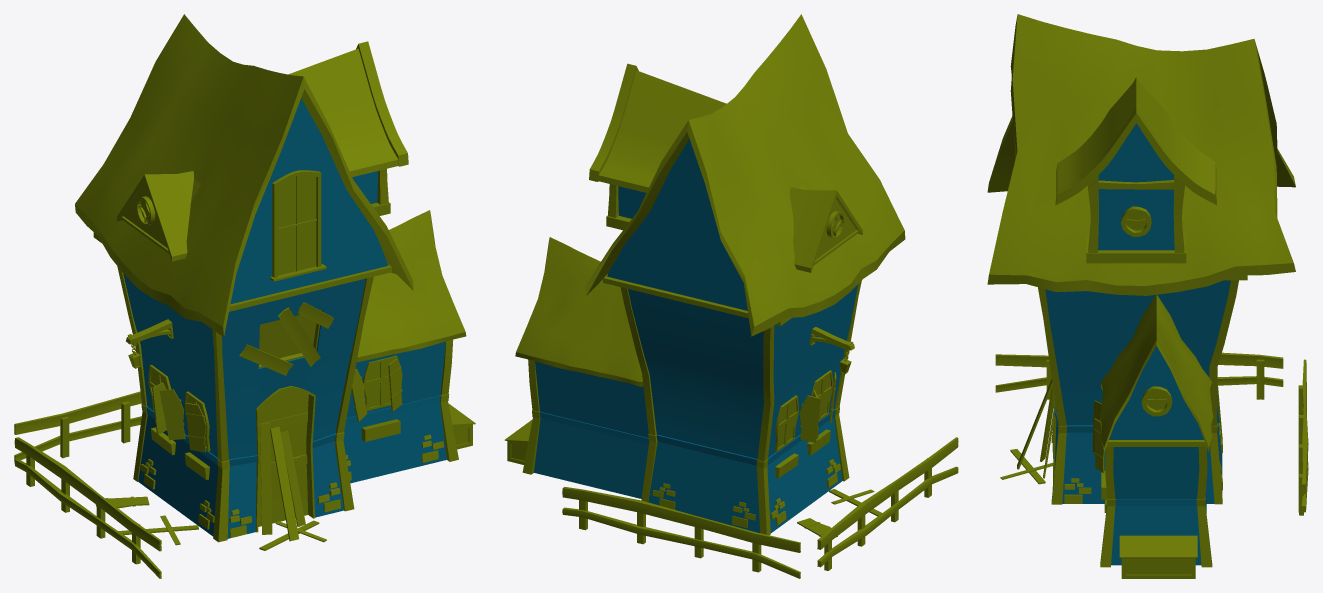
The model's file is maison_low.fbx.
3 renders of one model, left to right at view 1: azimuth 30°, elevation 25°; view 2: azimuth 150°, elevation 25°; view 3: azimuth 270°, elevation 25°, orthographic. The views are drawn at different scales.
Visible parts, largest first — view 1: Structure Maison_low, toit1_low, toit3_low, Planche1_low, Poutre_low, contour_low, Vitre_low, planches_low, vollet_low, toit2_low, planches3_low, plafond_low (+8 smaller); view 2: Structure Maison_low, toit1_low, toit4_low, Planche1_low, Poutre_low, toit2_low, contoure Maison_low, plafond_low, planches3_low, piquet_low, vollet_low, Bricks_low (+5 smaller); view 3: toit2_low, Structure Maison_low, Poutre_low, toit4_low, toit3_low, planches3_low, Planche1_low, poutre2_low, plafond_low, toit1_low, Metal_low, planches_low (+5 smaller).
Boxes of the visible parts, bbox=[...] form: Structure Maison_low: bbox=[123, 98, 446, 538]; toit1_low: bbox=[75, 14, 304, 336]; toit3_low: bbox=[144, 48, 466, 362]; Planche1_low: bbox=[14, 302, 334, 578]; Poutre_low: bbox=[117, 266, 458, 542]; contour_low: bbox=[136, 170, 322, 532]; Vitre_low: bbox=[129, 175, 394, 446]; planches_low: bbox=[118, 423, 326, 550]; vollet_low: bbox=[95, 358, 402, 508]; toit2_low: bbox=[301, 77, 413, 290]; planches3_low: bbox=[136, 41, 408, 475]; plafond_low: bbox=[93, 202, 391, 311]; Structure Maison_low: bbox=[534, 139, 857, 533]; toit1_low: bbox=[687, 14, 905, 336]; toit4_low: bbox=[515, 70, 836, 386]; Planche1_low: bbox=[562, 437, 958, 578]; Poutre_low: bbox=[522, 280, 861, 535]; toit2_low: bbox=[585, 120, 689, 295]; contoure Maison_low: bbox=[539, 409, 835, 465]; plafond_low: bbox=[603, 215, 859, 325]; planches3_low: bbox=[589, 63, 844, 349]; piquet_low: bbox=[579, 458, 931, 572]; vollet_low: bbox=[797, 372, 837, 537]; Bricks_low: bbox=[652, 459, 840, 527]; toit2_low: bbox=[987, 14, 1295, 295]; Structure Maison_low: bbox=[1045, 123, 1230, 565]; Poutre_low: bbox=[1038, 280, 1238, 567]; toit4_low: bbox=[1136, 77, 1216, 452]; toit3_low: bbox=[1056, 77, 1156, 452]; planches3_low: bbox=[1055, 108, 1216, 403]; Planche1_low: bbox=[995, 352, 1308, 512]; poutre2_low: bbox=[1087, 175, 1195, 578]; plafond_low: bbox=[1086, 233, 1247, 446]; toit1_low: bbox=[987, 26, 1295, 192]; Metal_low: bbox=[1092, 411, 1197, 558]; planches_low: bbox=[1000, 378, 1053, 484].
Bounding box in the file's own units: 648 × 752 × 477.
